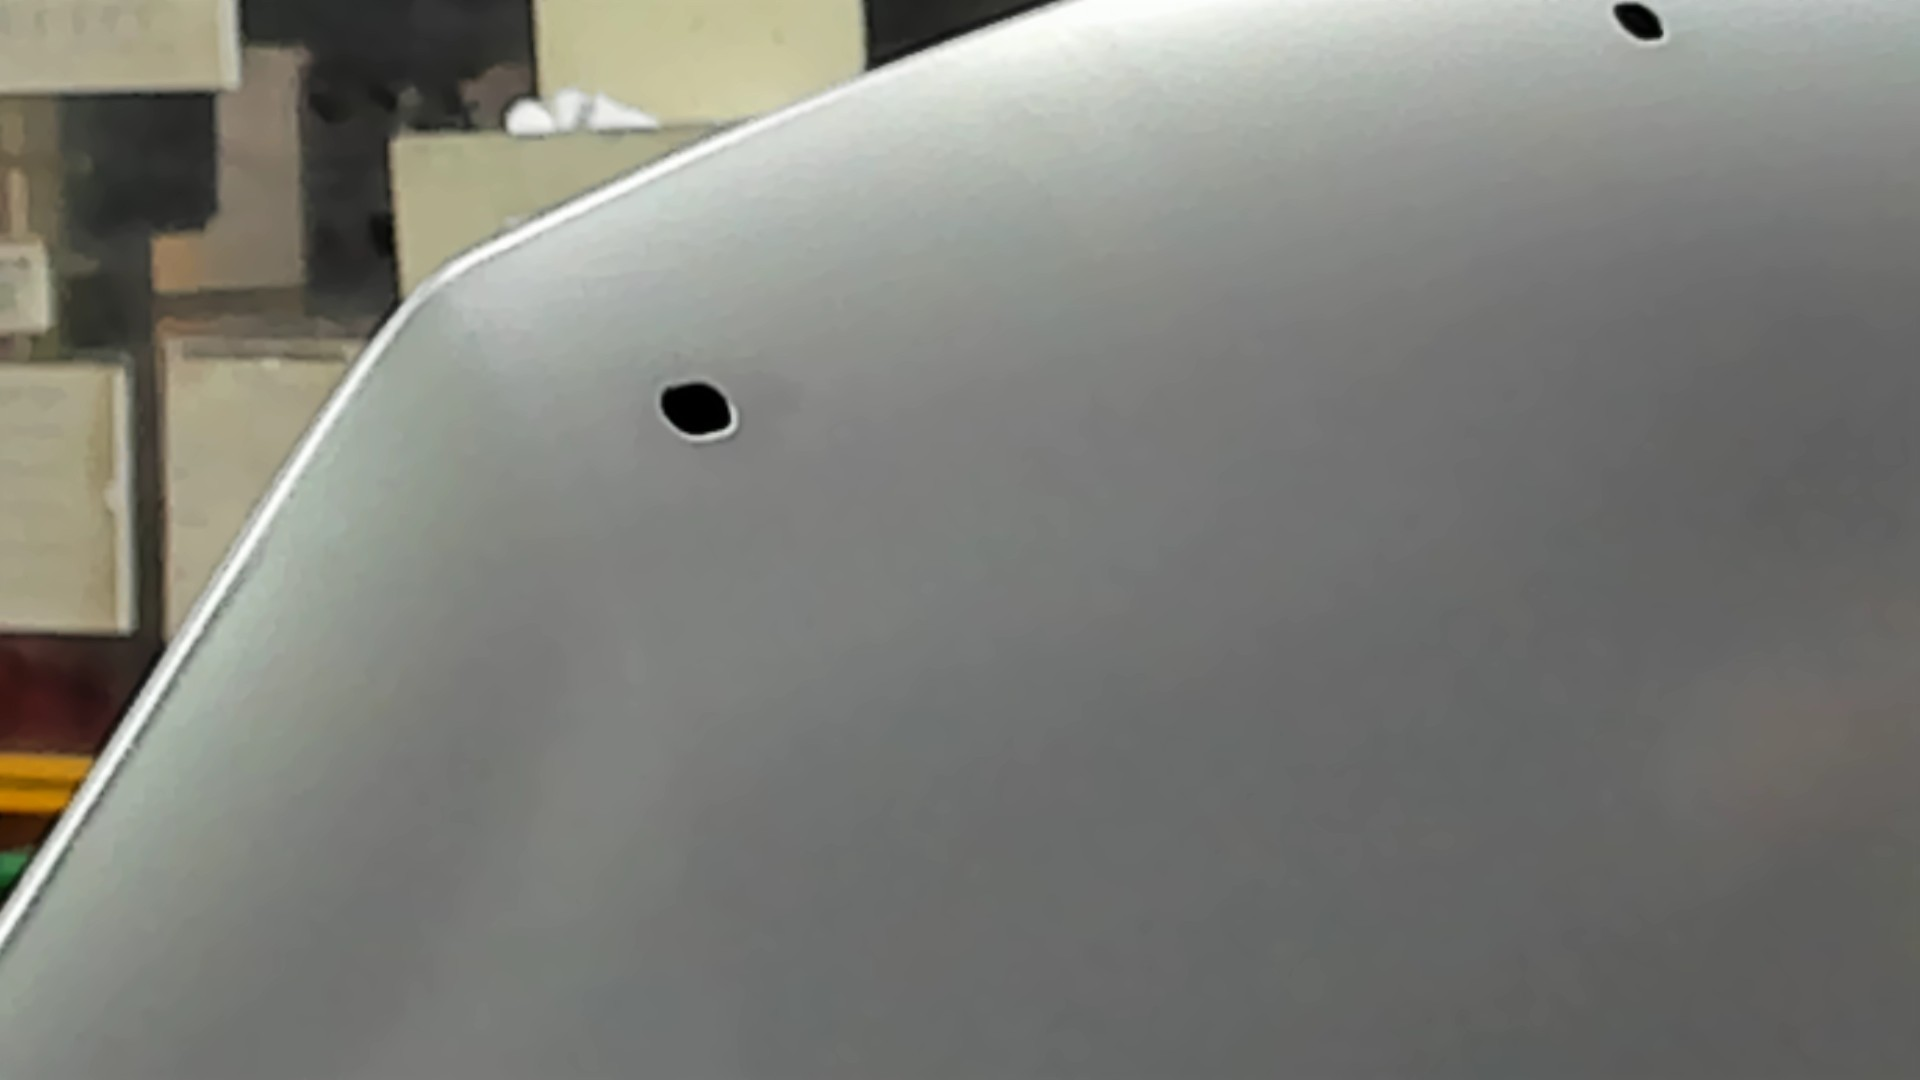amorfo: (655, 373, 742, 444), (1611, 1, 1669, 45)
capo: (911, 88, 1920, 1080)
